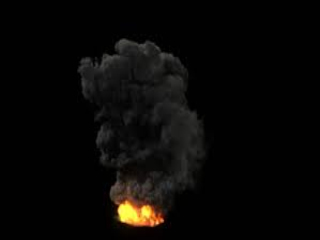fire: (106, 196, 171, 230)
smoke: (76, 39, 203, 197)
